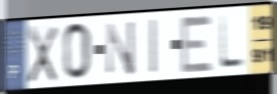0: (60, 21, 96, 82)
E: (179, 14, 215, 75)
I: (148, 16, 159, 77)
L: (218, 13, 246, 71)
N: (104, 18, 137, 77)
X: (26, 24, 60, 85)
